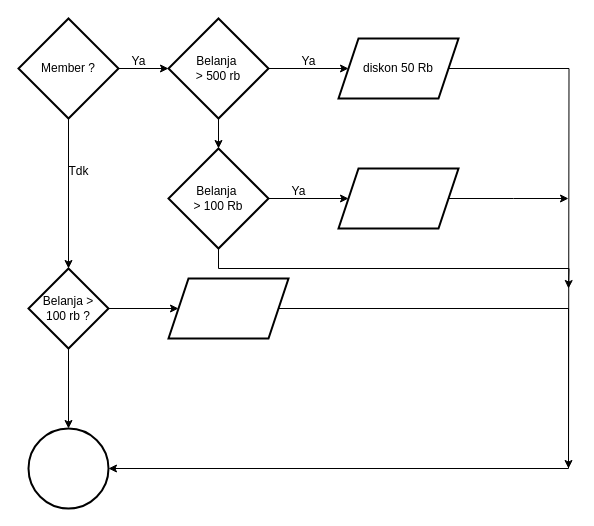
Some shapes in this 594 by 526 pixel diagram are drawn without their labels. The centre of each missing label's shape, as x and y in pixels:
diskon 10 rb: the point at 228,308
diskon 15 rb: the point at 398,198
end: the point at 68,468
